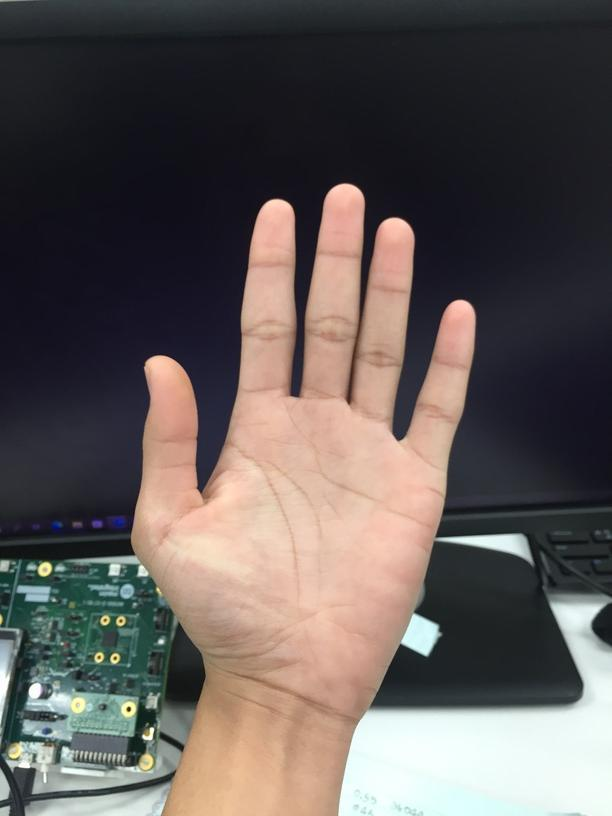hand: (129, 176, 478, 730)
